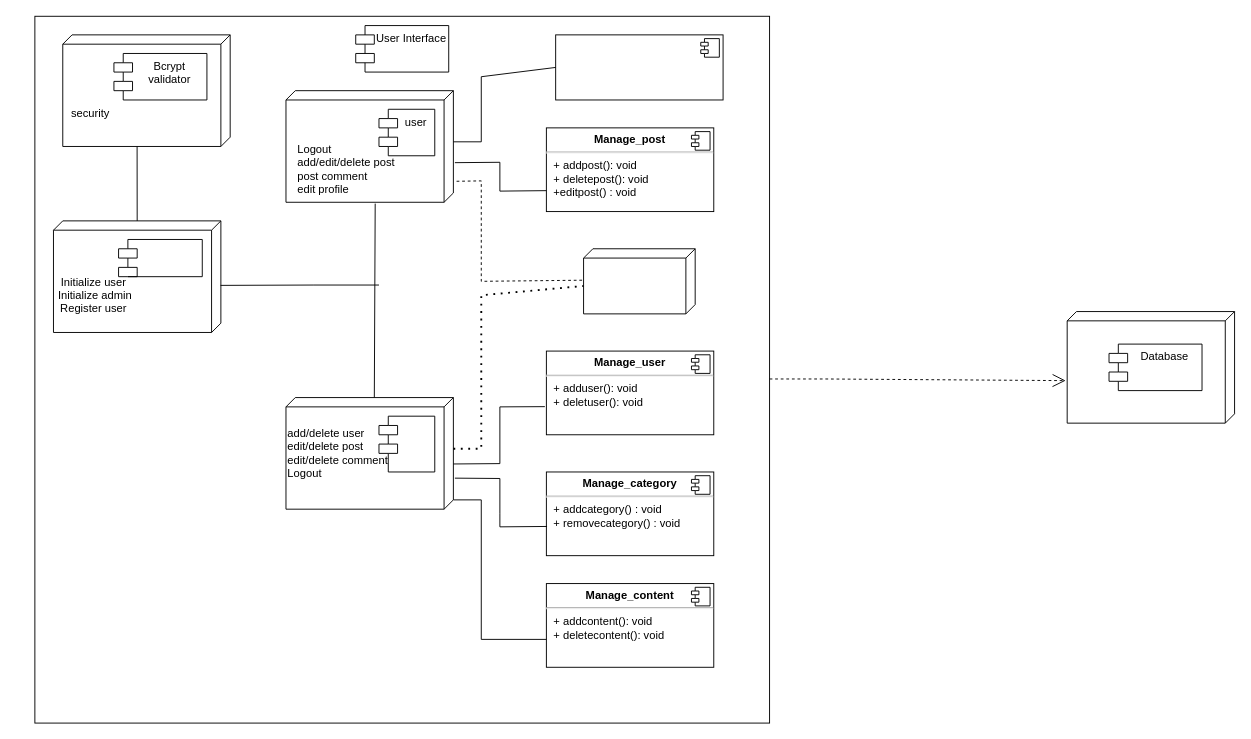
Image size: 1251x739. Some labels were removed from this diagram. The centre of each missing label's shape, as x and y in pixels:
"Admin" belongs at [406,443].
"login system" belongs at [160,258].
"Logout" belongs at [639,281].
"Manage_profile + editprofile(): void" belongs at [639,67].
